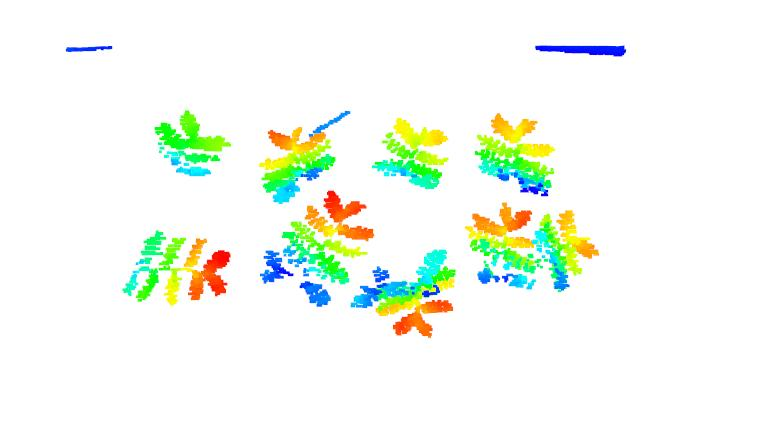chickpea: (257, 189, 371, 310), (117, 228, 233, 305), (362, 249, 458, 340), (474, 112, 557, 200), (255, 121, 338, 205), (464, 200, 539, 291), (531, 206, 601, 295), (370, 117, 453, 190), (154, 107, 233, 177)
